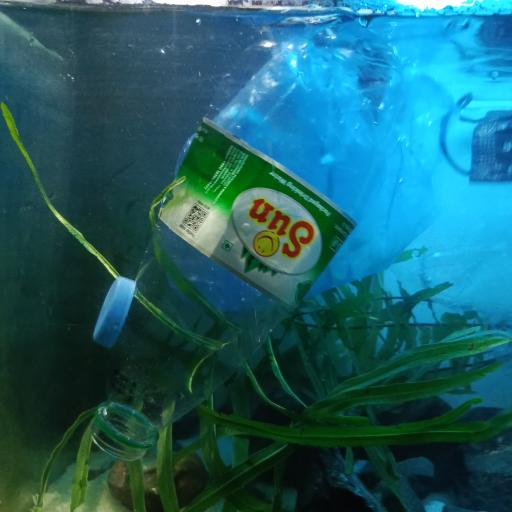bottle_cap: (94, 276, 136, 348)
mask: (441, 94, 512, 188)
plastic_bag: (159, 42, 512, 306)
plastic_bottle: (85, 37, 401, 463)
